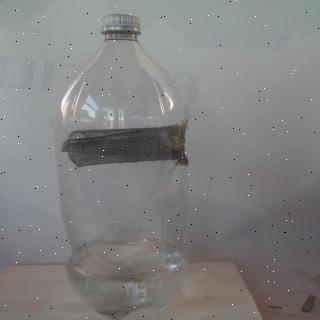Plastic-bottle: (47, 12, 211, 318)
